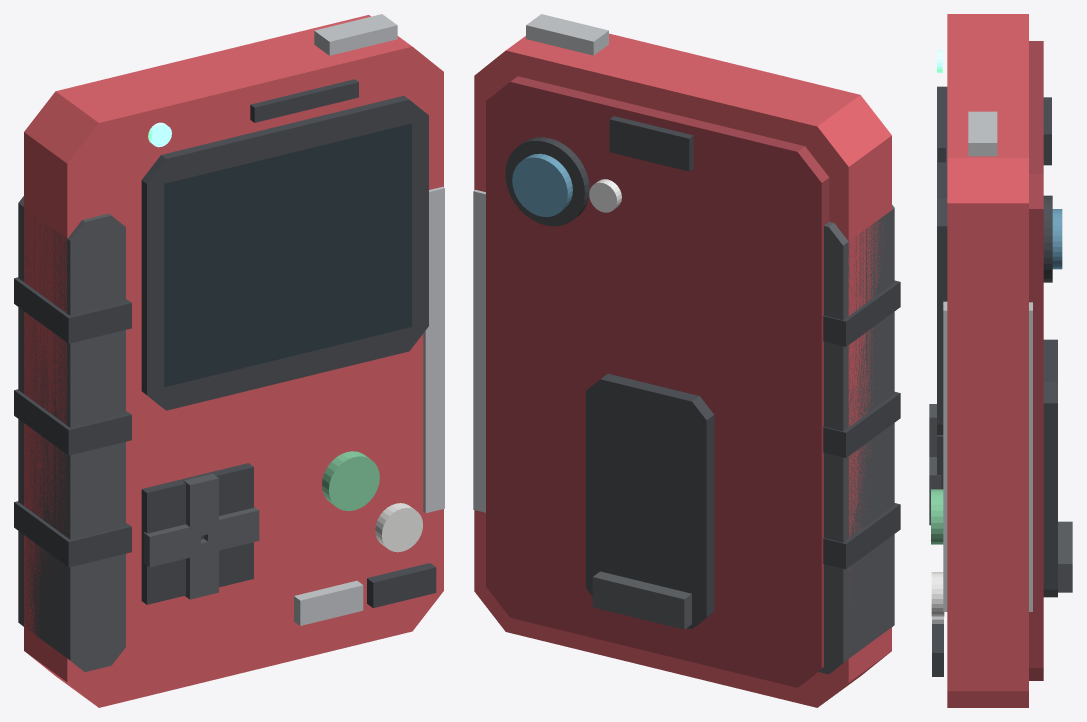
File: pokedex.glb
3 renders of one model, left to right at view 1: azimuth 30°, elevation 25°; view 2: azimuth 150°, elevation 25°; view 3: azimuth 270°, elevation 25°, orthographic. The views are drawn at different scales.
Visible parts, largest first — view 1: PokedexBody, Screen, LeftHandGrip, ScreenBezel, DPadBase, RightSideTrim, GripRib_1, GripRib_3, GripRib_2, ConfirmButton, CameraButton, SettingsButton (+7 smaller); view 2: RearShell, PokedexBody, HolsterClip, LeftHandGrip, RightSideTrim, HolsterClipBridge, RearSensor, CameraLens, CameraLensRing, GripRib_3, GripRib_1, GripRib_2 (+2 smaller); view 3: PokedexBody, RearShell, HolsterClip, ScreenBezel, RightSideTrim, CameraButton, HolsterClipBridge, CameraLensRing, ConfirmButton, CameraLens, MenuButton, RearSensor (+5 smaller).
Boxes of the visible parts, x1,y1,x2,y2 form: PokedexBody: (24, 15, 443, 707); Screen: (164, 123, 411, 387); LeftHandGrip: (18, 196, 125, 671); ScreenBezel: (141, 96, 428, 410); DPadBase: (141, 463, 253, 604); RightSideTrim: (423, 186, 444, 513); GripRib_1: (14, 501, 131, 567); GripRib_3: (14, 277, 131, 343); GripRib_2: (14, 389, 131, 455); ConfirmButton: (322, 451, 379, 511); CameraButton: (314, 14, 397, 55); SettingsButton: (294, 580, 363, 625); RearShell: (486, 76, 829, 687); PokedexBody: (474, 33, 891, 707); HolsterClip: (586, 373, 714, 628); LeftHandGrip: (818, 205, 894, 674); RightSideTrim: (473, 189, 485, 512); HolsterClipBridge: (592, 571, 691, 629); RearSensor: (609, 116, 693, 171); CameraLens: (512, 153, 572, 216); CameraLensRing: (505, 137, 589, 226); GripRib_3: (823, 280, 900, 346); GripRib_1: (823, 503, 900, 569); GripRib_2: (823, 392, 900, 457); PokedexBody: (947, 14, 1028, 707); RearShell: (1029, 41, 1043, 680); HolsterClip: (1043, 339, 1057, 597); ScreenBezel: (937, 86, 947, 434); RightSideTrim: (943, 301, 1032, 611); CameraButton: (968, 111, 997, 156); HolsterClipBridge: (1058, 521, 1072, 592); CameraLensRing: (1043, 195, 1052, 282); ConfirmButton: (931, 489, 943, 544); CameraLens: (1052, 209, 1062, 269); MenuButton: (932, 624, 943, 676); RearSensor: (1043, 97, 1051, 165).
Bounding box in the file's own units: 0.1565 × 0.2375 × 0.0543.
